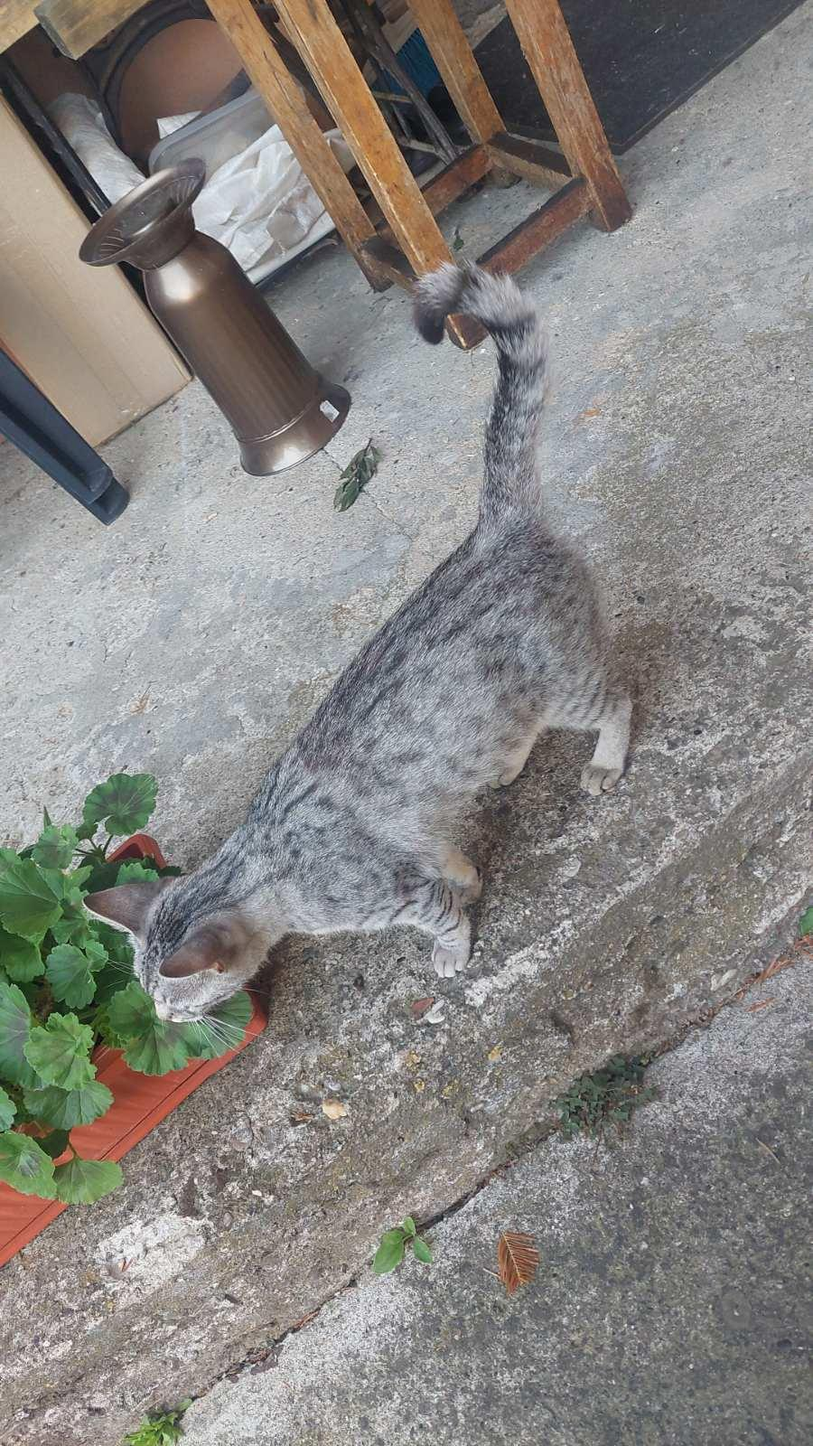macka: (79, 263, 641, 1031)
